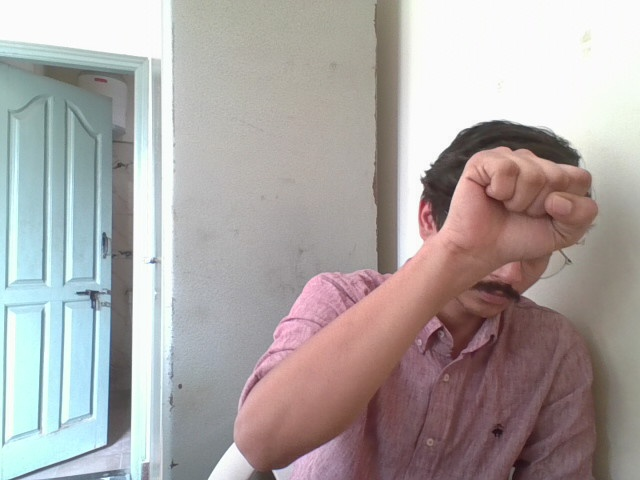power: (424, 137, 640, 299)
